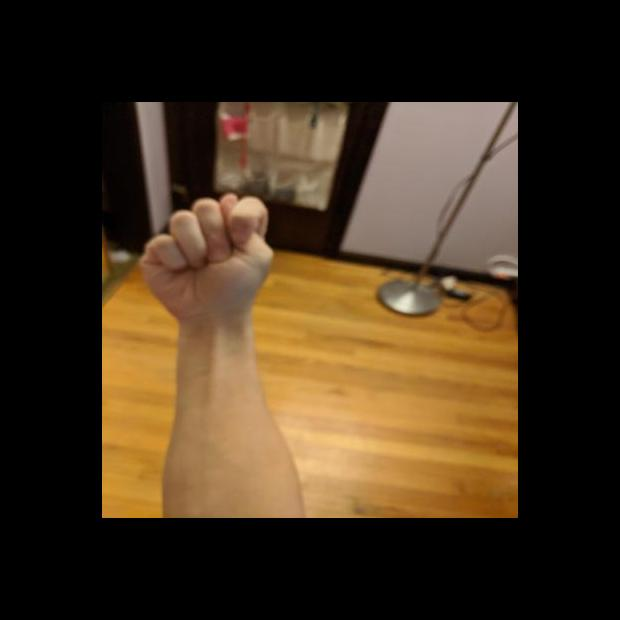S: (133, 190, 282, 328)
